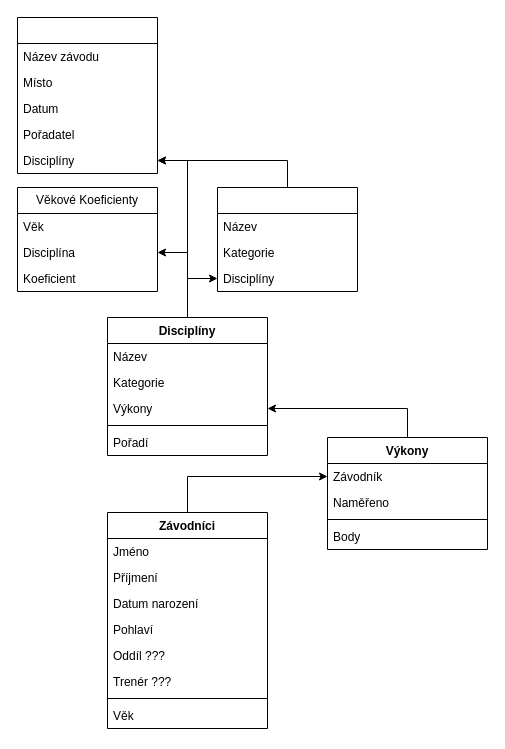
This 505x749 diagram has some shape labels left out. Each missing label, with the box of its shape:
Skupina Disciplín: (216, 186, 358, 292)
Závody: (16, 16, 158, 174)
